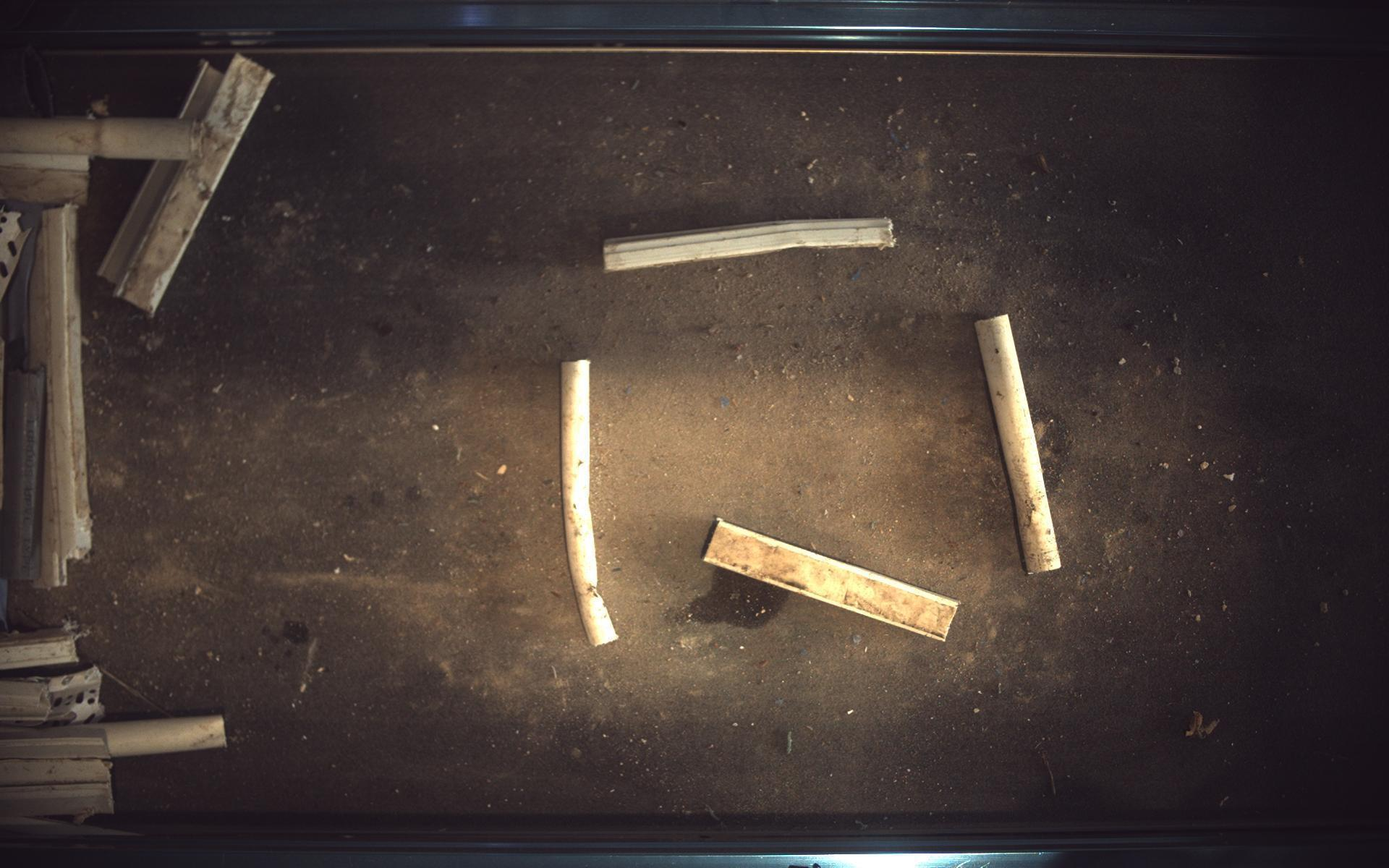pipes: (981, 316, 1063, 573), (562, 359, 618, 646)
plastic: (706, 519, 960, 642), (605, 218, 896, 271)
